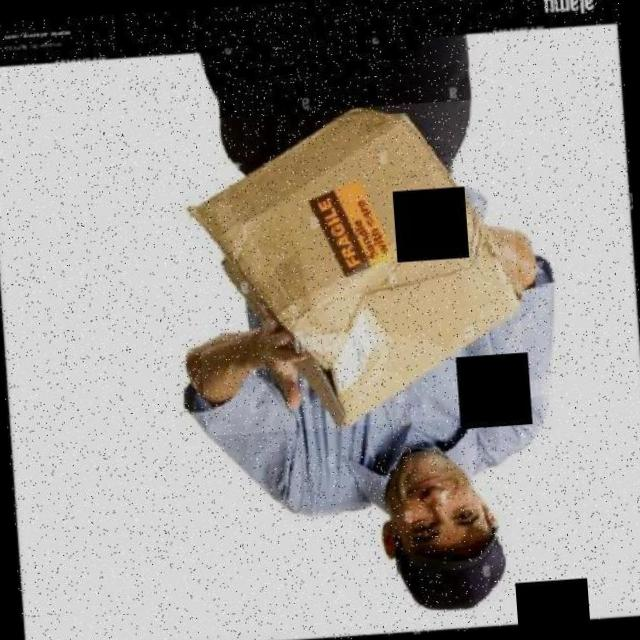box: (184, 96, 527, 436)
